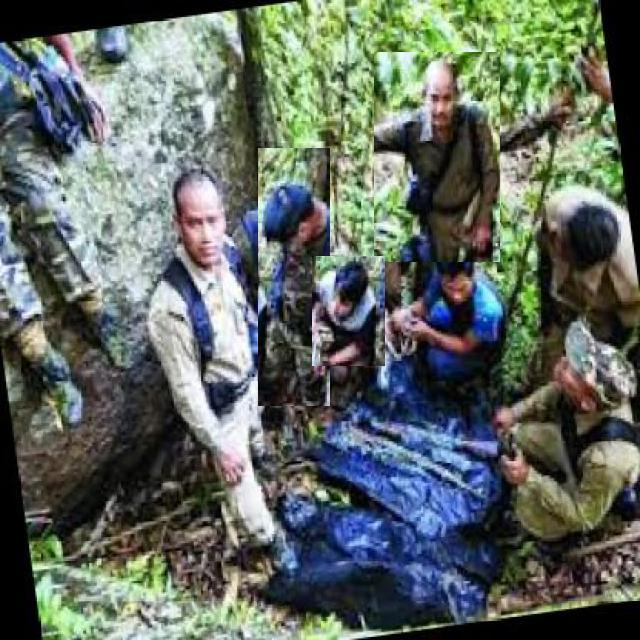poacher: (148, 160, 257, 565), (484, 335, 640, 529), (374, 52, 500, 262), (258, 148, 330, 406), (516, 174, 632, 311), (312, 256, 385, 366)
